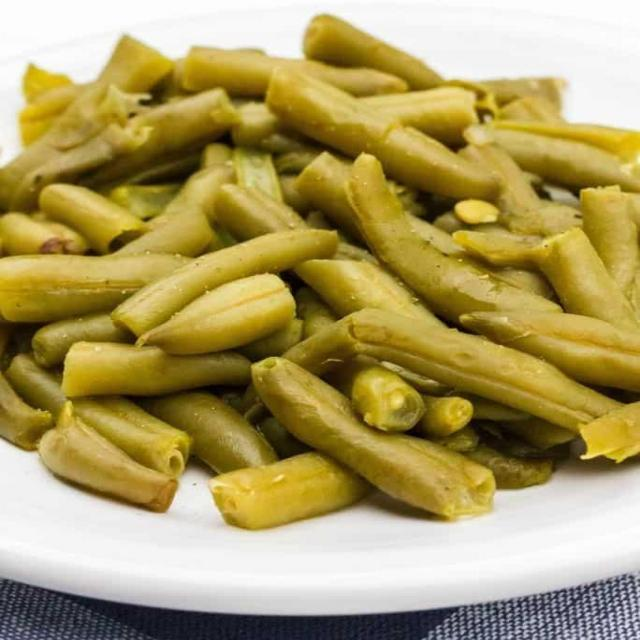Beans: (0, 4, 637, 535)
